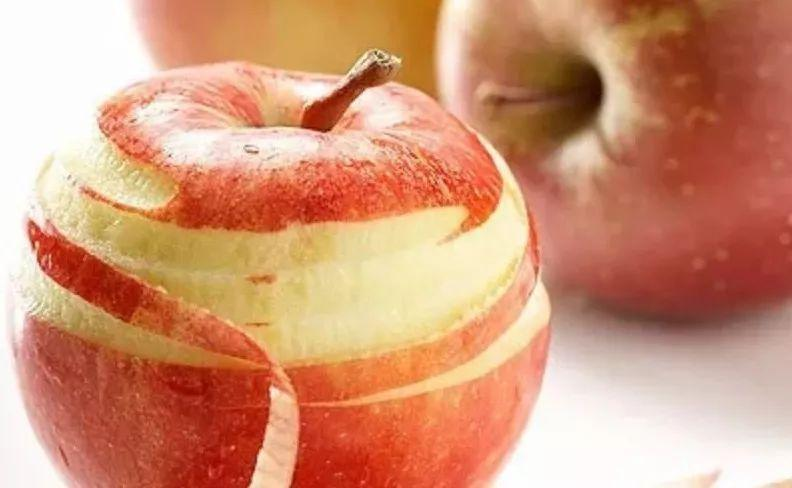apple: (438, 2, 792, 321)
